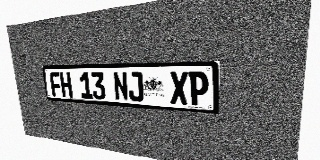1: (79, 72, 93, 99)
3: (91, 72, 106, 100)
F: (49, 72, 62, 97)
H: (59, 72, 73, 98)
J: (127, 72, 144, 102)
N: (113, 72, 129, 101)
P: (189, 71, 209, 106)
X: (170, 72, 188, 105)
